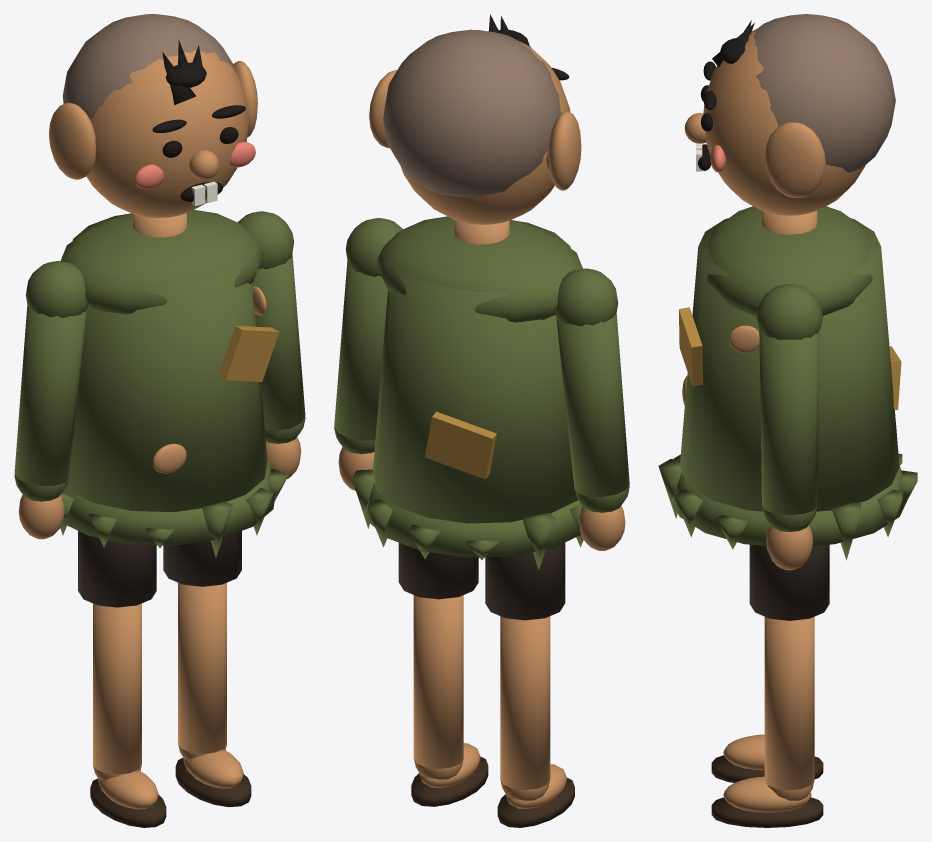
Rendered from villager_cu_moi.glb.
The picture shows the model from 3 angles, left to right: view 1: azimuth 30°, elevation 25°; view 2: azimuth 150°, elevation 25°; view 3: azimuth 270°, elevation 25°; orthographic projection.
Parts seen in each view (by area): view 1: Body, Head, LegL, ArmL, LegR, ArmR; view 2: Body, Head, LegL, ArmL, LegR, ArmR; view 3: Body, Head, LegR, ArmR, LegL.
Boxes of the visible parts, left/top/right/bottom form: Body: left=60, top=209, right=288, bottom=557; Head: left=49, top=14, right=257, bottom=217; LegL: left=78, top=531, right=166, bottom=827; ArmL: left=14, top=261, right=88, bottom=539; LegR: left=163, top=531, right=251, bottom=807; ArmR: left=237, top=211, right=305, bottom=478; Body: left=352, top=216, right=583, bottom=570; Head: left=369, top=14, right=581, bottom=224; LegL: left=485, top=542, right=574, bottom=827; ArmL: left=555, top=268, right=629, bottom=550; LegR: left=398, top=542, right=488, bottom=806; ArmR: left=334, top=218, right=403, bottom=490; Body: left=658, top=206, right=917, bottom=560; Head: left=684, top=14, right=895, bottom=215; LegR: left=711, top=544, right=829, bottom=827; ArmR: left=756, top=284, right=822, bottom=570; LegL: left=711, top=734, right=823, bottom=782.
Size of the model in its own units: 0.6 by 1.54 by 0.4679.
